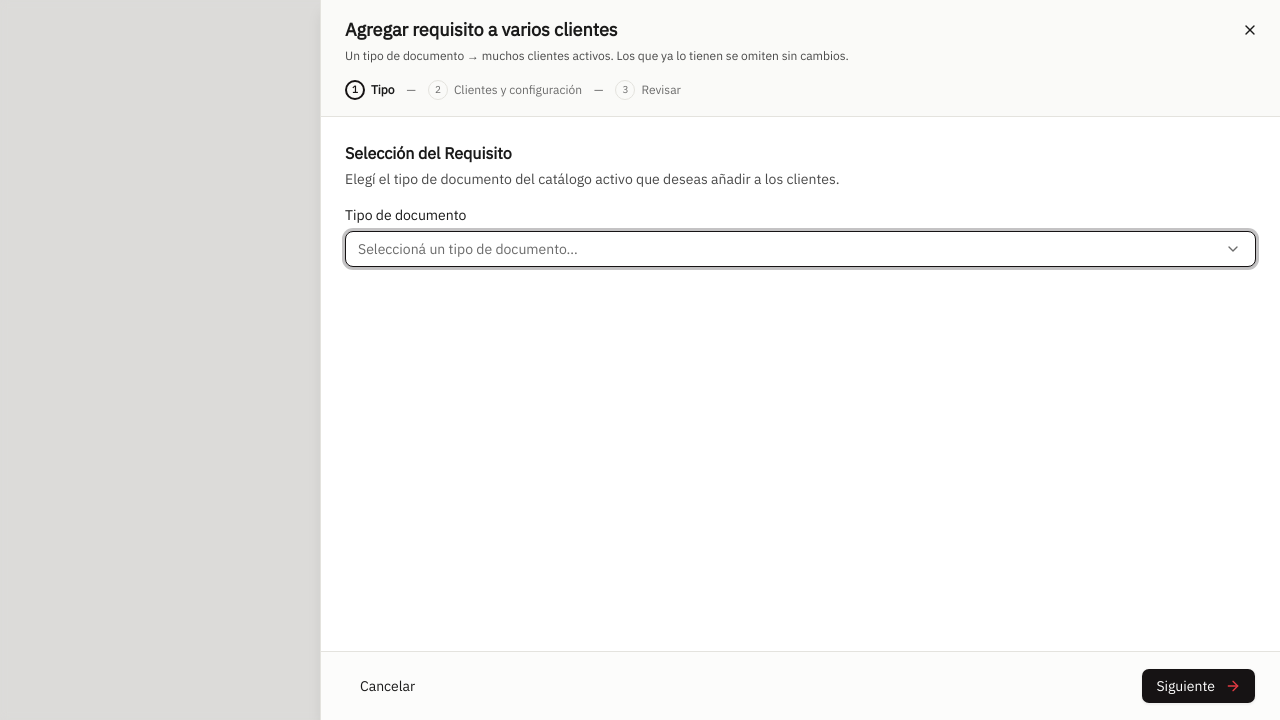
Test: CargaMasivaWizard › selecciona un tipo de documento y avanza al Paso 2
Step 1. Click the dropdown → [468, 249], box x1=345 y1=231 x2=1256 y2=267
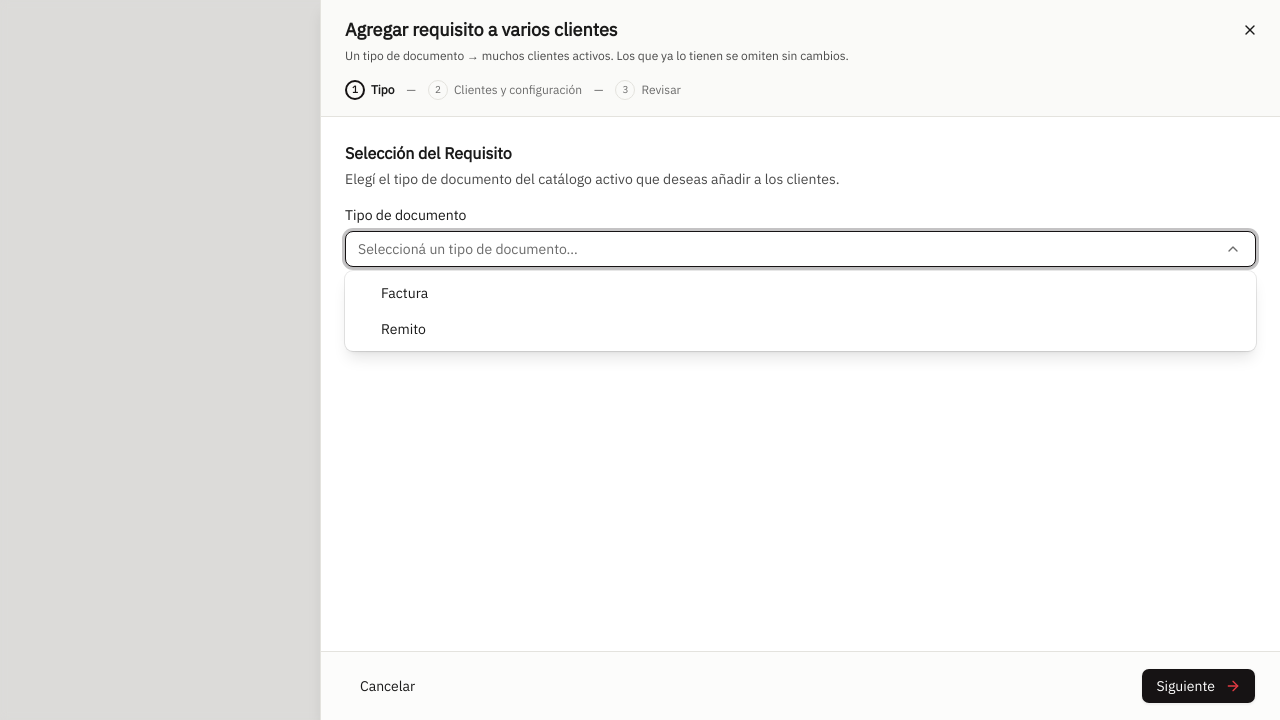
Step 2. Click the option "Factura" → [405, 293], box x1=381 y1=284 x2=428 y2=302
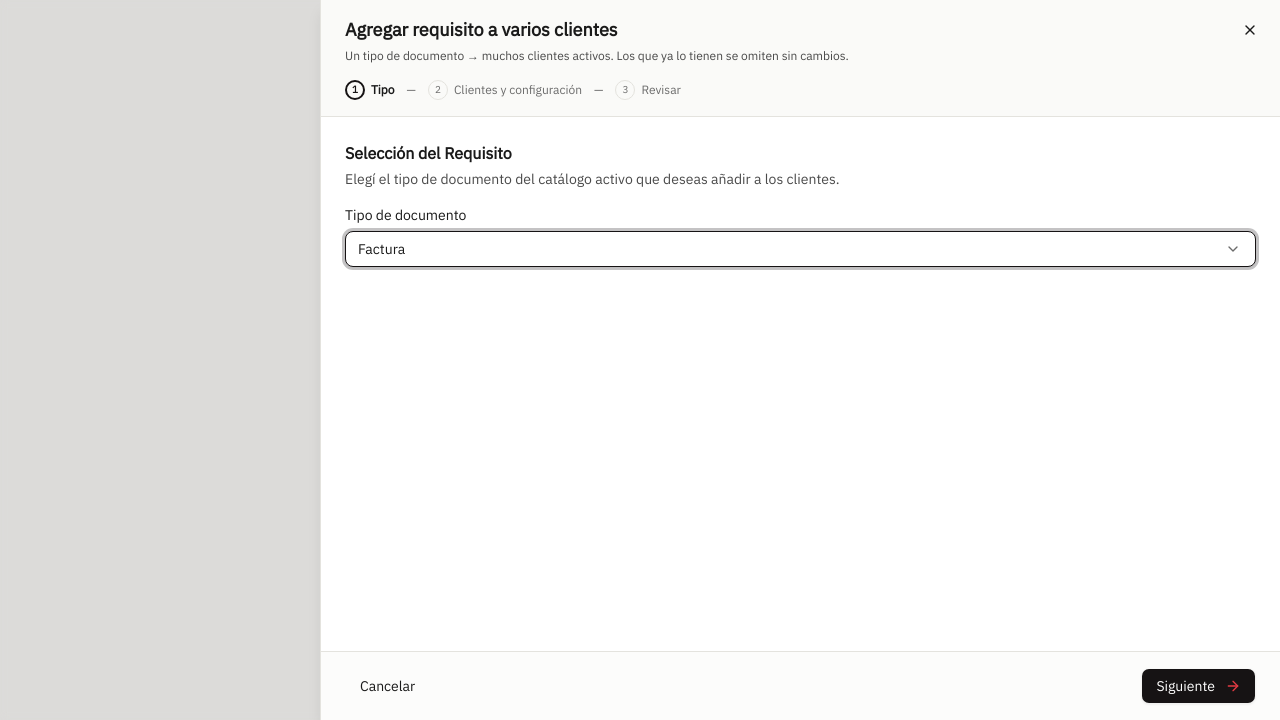
Expected: the list is gone
Step 3. Click the button "Siguiente" → [1199, 686], box x1=1141 y1=668 x2=1256 y2=704
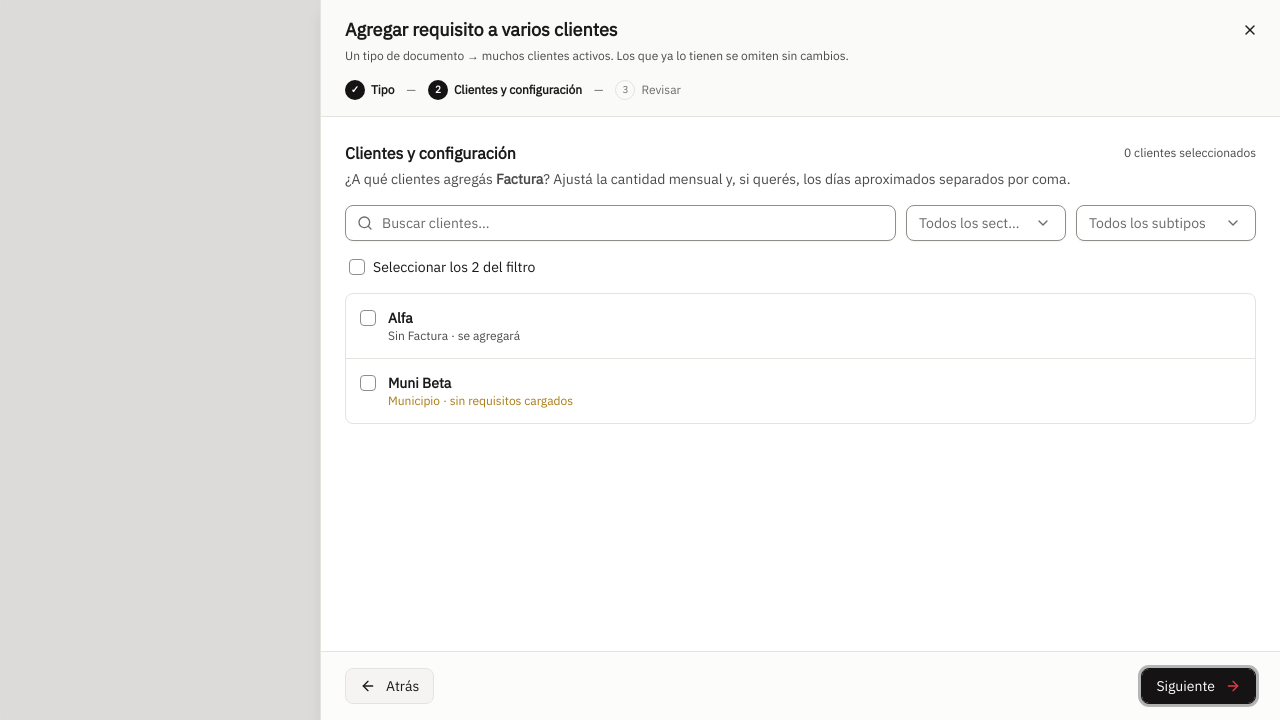
Expected: the heading "Clientes y configuración" is shown, x1=345 y1=141 x2=516 y2=165
Expected: the text "Alfa" is shown, x1=388 y1=309 x2=413 y2=327
Expected: the text "Muni Beta" is shown, x1=388 y1=374 x2=451 y2=392
